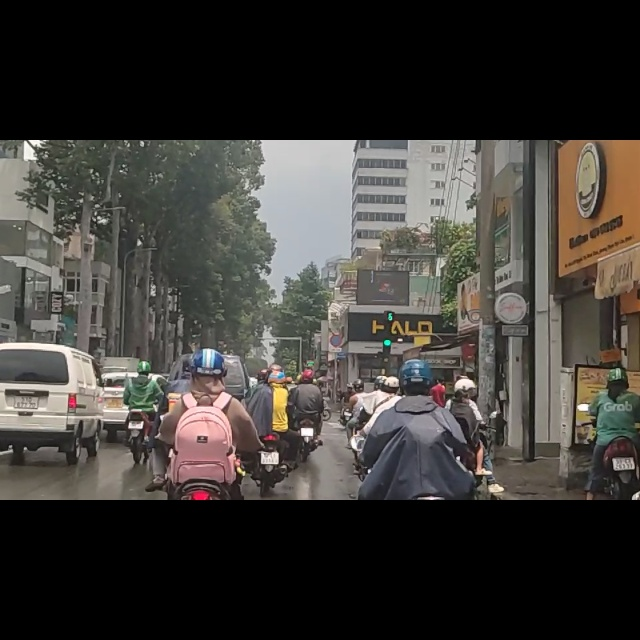bien_cam: (329, 344, 344, 371)
